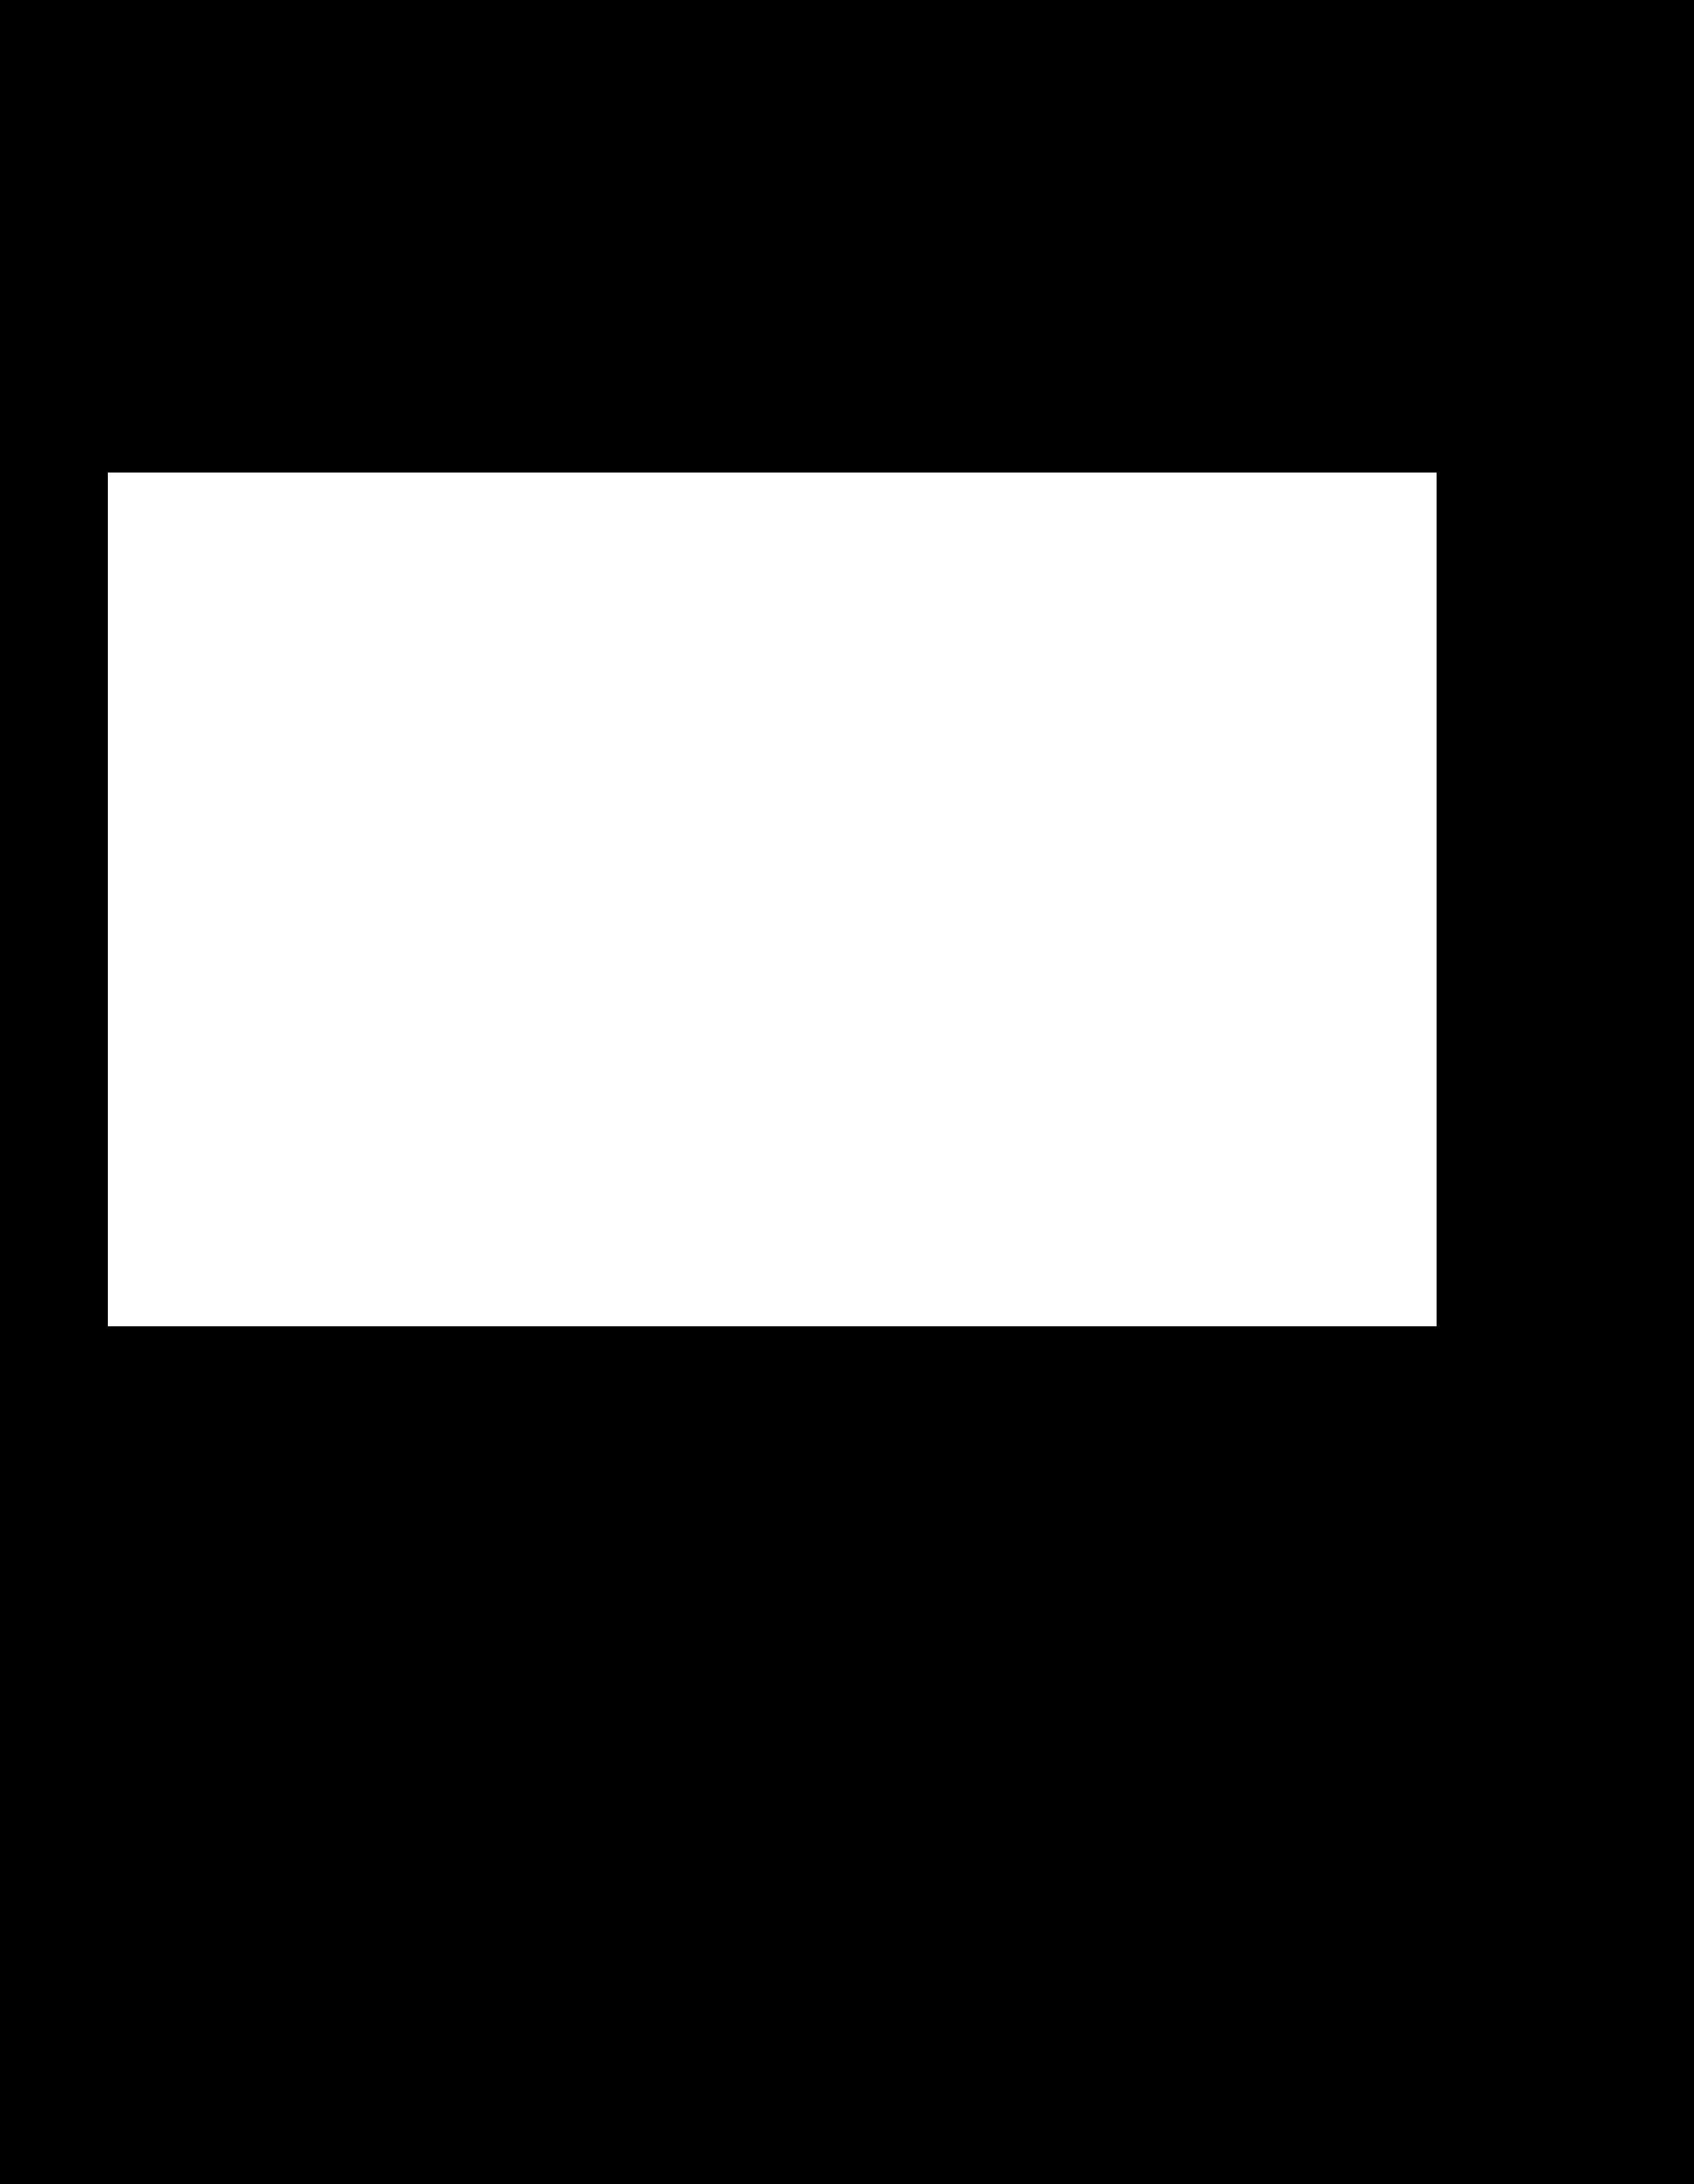table: (108, 473, 1435, 1326)
